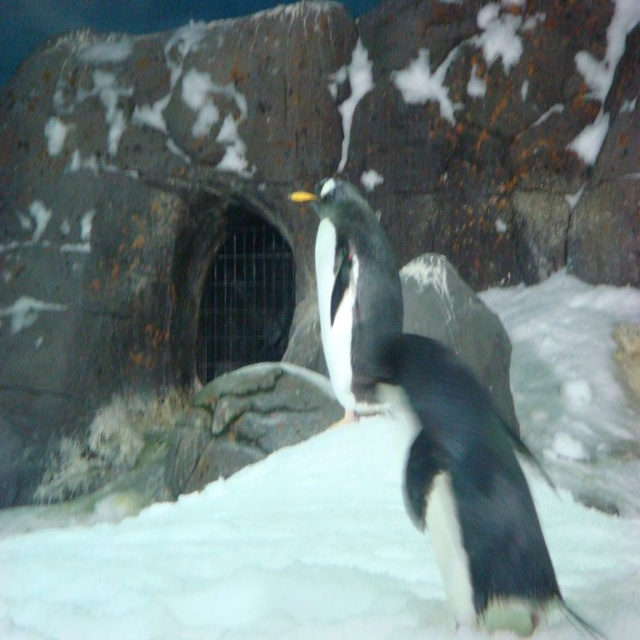Penguin: (347, 322, 604, 633), (289, 174, 404, 434)
